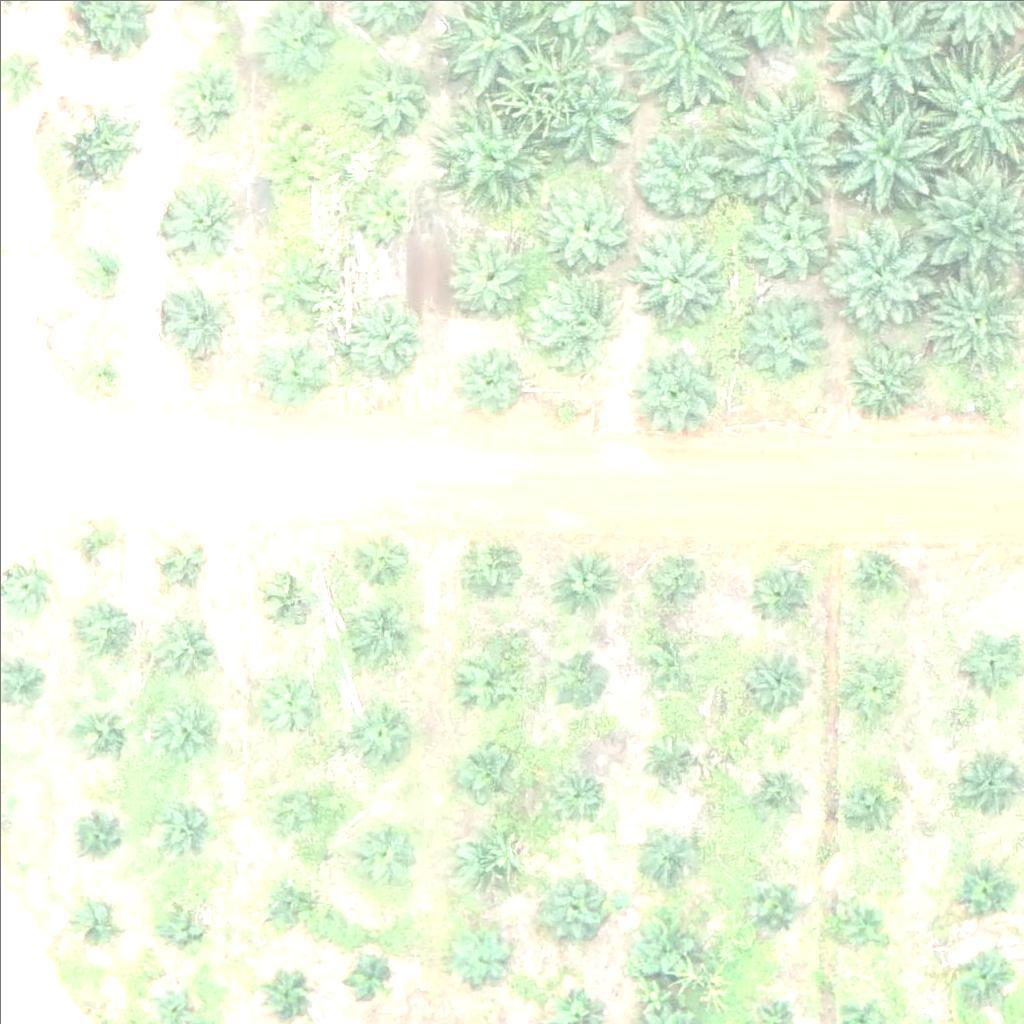Kelapa_Sawit: (717, 91, 842, 217), (823, 87, 948, 213), (820, 216, 933, 329), (445, 105, 545, 205), (523, 269, 623, 369), (628, 236, 728, 336), (634, 131, 722, 219), (626, 347, 714, 435), (745, 191, 833, 279), (929, 274, 1017, 362), (538, 180, 625, 269), (550, 74, 637, 162), (339, 292, 426, 380), (444, 235, 531, 323), (747, 291, 834, 379), (161, 282, 236, 358), (451, 337, 526, 413), (70, 101, 145, 177), (161, 185, 236, 261), (353, 59, 428, 134), (845, 339, 920, 414), (169, 68, 244, 143), (956, 751, 1019, 814), (269, 768, 332, 831), (154, 792, 217, 855), (542, 875, 605, 938), (555, 548, 618, 611), (156, 695, 219, 758), (746, 565, 809, 628), (835, 658, 898, 721), (845, 547, 908, 610), (459, 650, 522, 713), (461, 543, 524, 606), (545, 643, 608, 706), (349, 526, 412, 589), (260, 345, 323, 408), (69, 599, 132, 662), (155, 614, 218, 677), (264, 123, 327, 186), (839, 769, 902, 831), (459, 736, 521, 799), (348, 821, 410, 884), (449, 923, 511, 986), (346, 604, 408, 667), (634, 630, 696, 693), (349, 700, 411, 763), (255, 249, 317, 312), (260, 662, 322, 725), (255, 564, 317, 627), (70, 704, 132, 767), (631, 910, 693, 973), (453, 823, 515, 886), (639, 549, 701, 611), (356, 184, 418, 246), (743, 644, 805, 706), (155, 541, 205, 592), (69, 520, 119, 571), (960, 865, 1010, 915), (954, 951, 1004, 1001), (967, 636, 1017, 686), (748, 755, 798, 805), (646, 823, 696, 873), (638, 730, 688, 780), (555, 767, 605, 817), (752, 883, 802, 933), (66, 806, 116, 856), (341, 950, 391, 1000), (834, 903, 884, 953), (156, 895, 206, 945), (70, 896, 120, 946), (76, 347, 126, 397), (80, 240, 130, 290), (262, 871, 312, 921)
